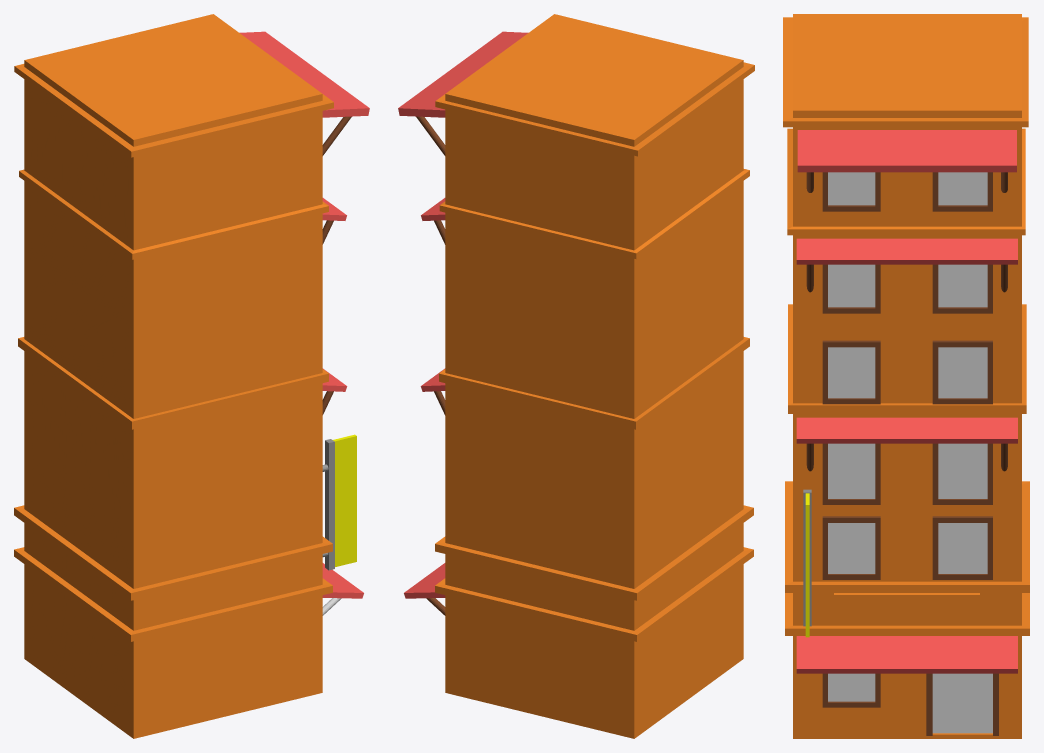
The model's file is wow_tec_5.fbx.
The picture shows the model from 3 angles, left to right: view 1: azimuth 30°, elevation 25°; view 2: azimuth 150°, elevation 25°; view 3: azimuth 270°, elevation 25°; orthographic projection. The views are drawn at different scales.
Parts seen in each view (by area): view 1: Cube, Cube.015, Cube.009, Cube.016, Cube.011; view 2: Cube, Cube.009, Cube.011; view 3: Cube, Cube.009, Cube.011, Cube.001, Cube.010, Cube.003, Cube.019, Cube.012, Cube.020, Cube.004, Cube.021, Cube.006 (+12 smaller).
Part boxes in pixels (x1,y1,x2,y2): Cube: (14,14,333,738); Cube.015: (333,434,356,566); Cube.009: (239,31,369,117); Cube.016: (325,439,334,570); Cube.011: (322,563,363,598); Cube: (435,14,754,738); Cube.009: (398,31,528,117); Cube.011: (404,563,445,598); Cube: (783,14,1029,738); Cube.009: (797,130,1016,172); Cube.011: (796,636,1017,673); Cube.001: (796,417,1017,443); Cube.010: (796,238,1017,264); Cube.003: (828,443,987,498); Cube.019: (828,347,987,398); Cube.012: (834,593,979,625); Cube.020: (828,264,987,307); Cube.004: (932,673,992,733); Cube.021: (828,172,987,205); Cube.006: (822,340,992,404).
Size of the model in its own units: 260 by 605 by 216.
